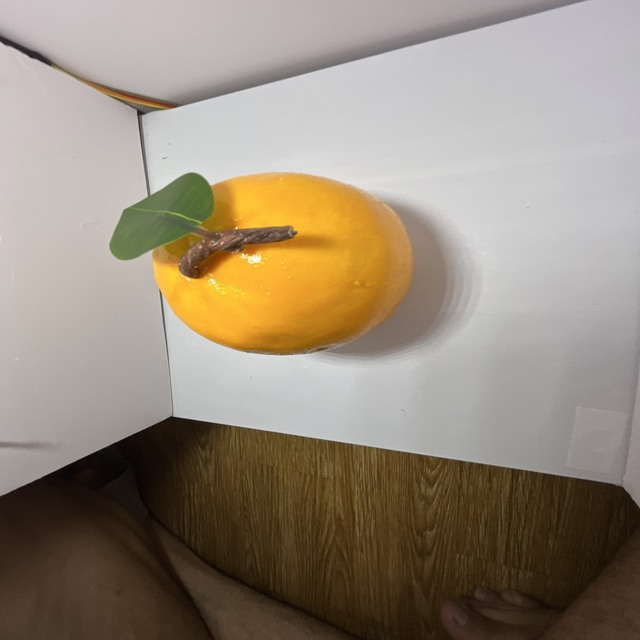Cam vang: (146, 167, 416, 359)
